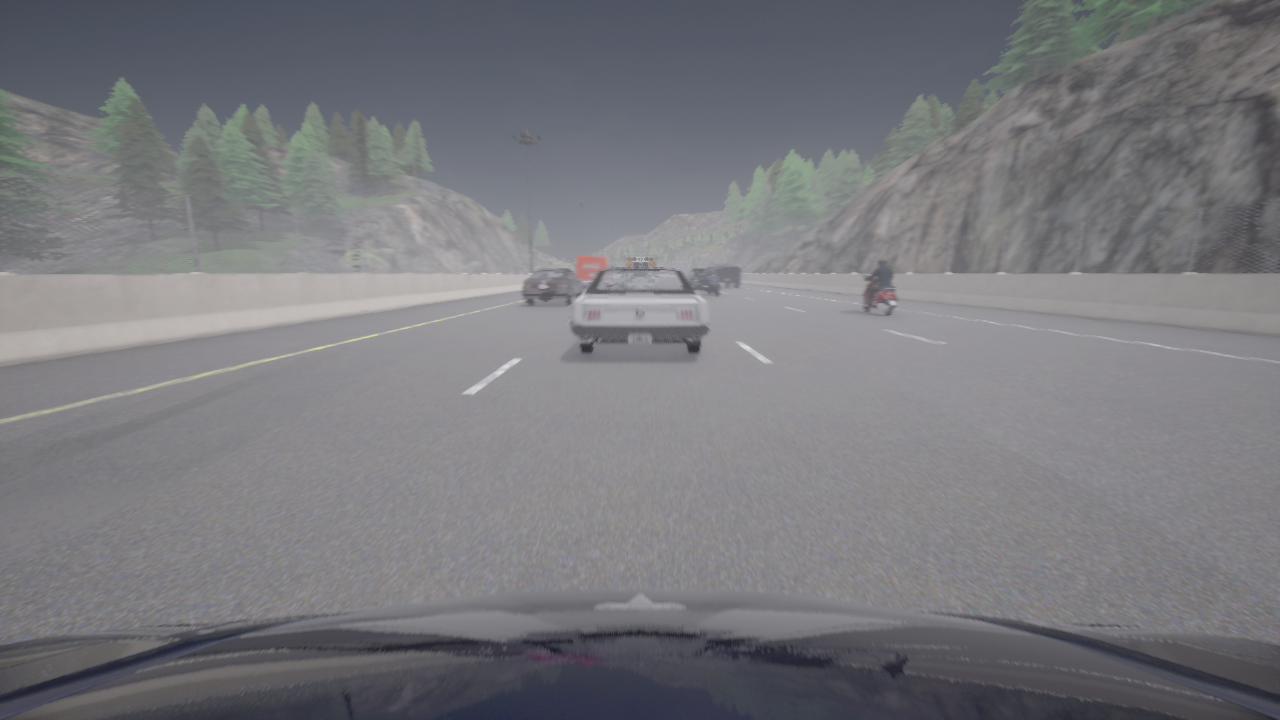cyclist: (0, 588, 1279, 719), (570, 268, 709, 353), (522, 269, 583, 304), (862, 272, 896, 315), (576, 256, 611, 288), (686, 269, 719, 294), (707, 263, 740, 287), (624, 256, 655, 267)
